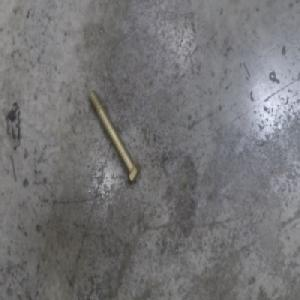Bolt: (88, 88, 141, 187)
